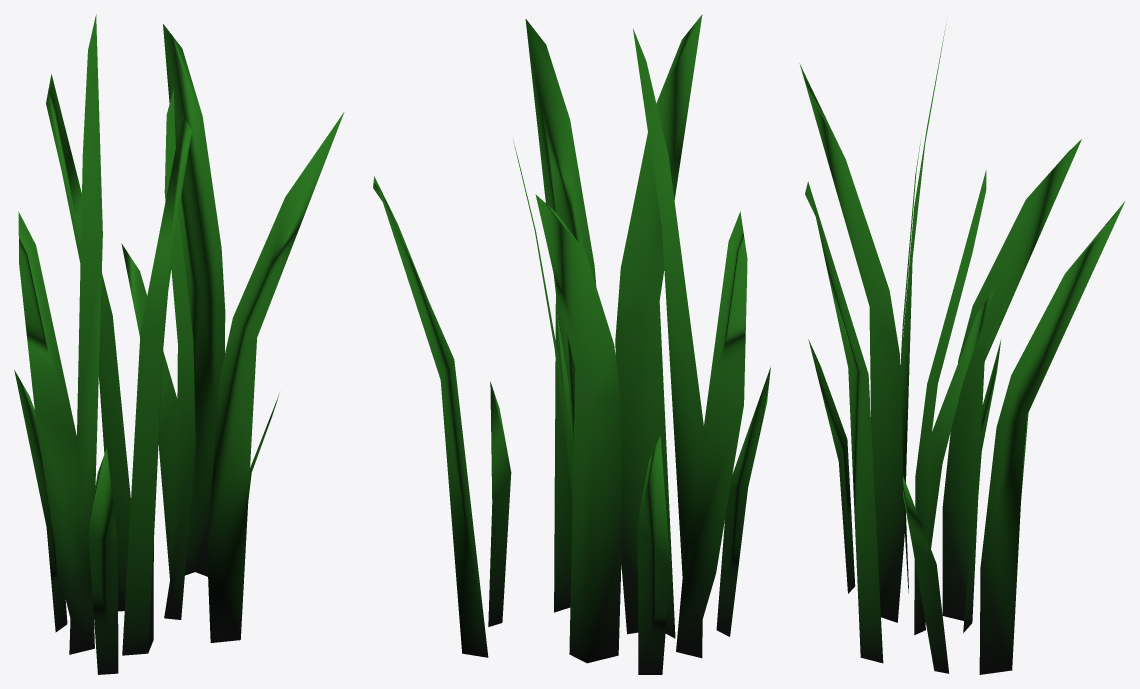
The model's file is Grass001.fbx.
The picture shows the model from 3 angles, left to right: view 1: azimuth 30°, elevation 25°; view 2: azimuth 150°, elevation 25°; view 3: azimuth 270°, elevation 25°; orthographic projection. The views are drawn at different scales.
Visible parts, largest first — view 1: Grass_Common_Short; view 2: Grass_Common_Short; view 3: Grass_Common_Short.
Boxes of the visible parts, x1=… form: Grass_Common_Short: x1=14, y1=14, x2=344, y2=674; Grass_Common_Short: x1=373, y1=14, x2=770, y2=674; Grass_Common_Short: x1=799, y1=22, x2=1125, y2=674.
Bounding box in the file's own units: 61.12 × 133 × 66.08.
